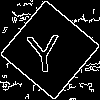Y: (25, 25, 62, 74)
